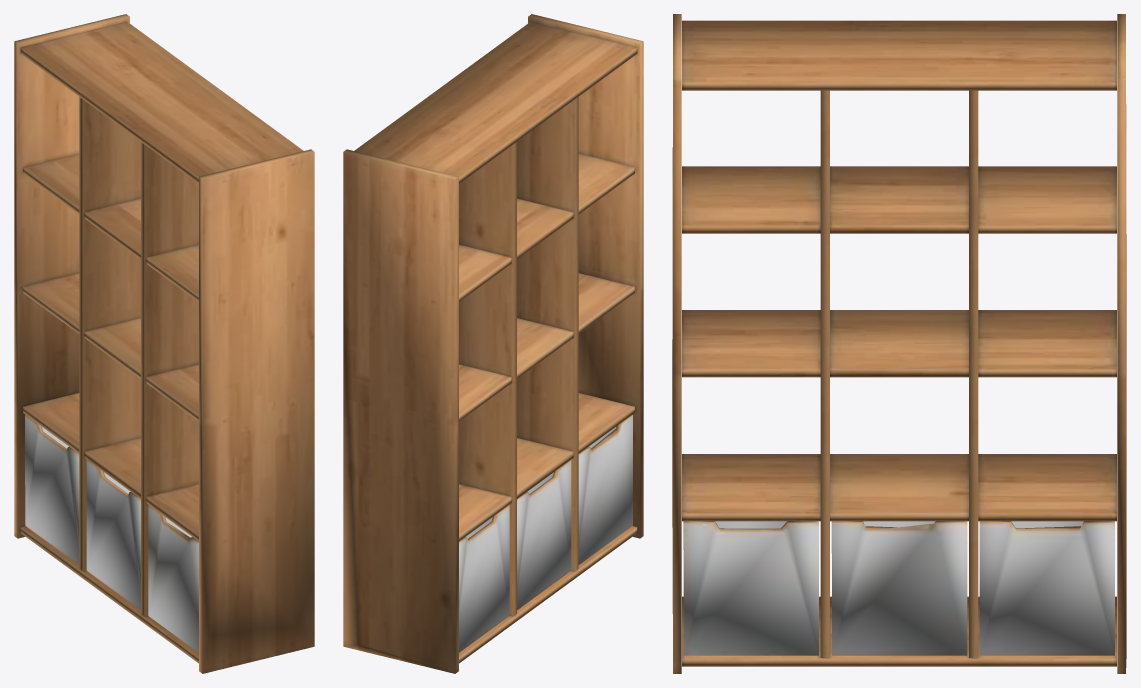
Rendered from wooden_display_shelves_01.glb.
The picture shows the model from 3 angles, left to right: view 1: azimuth 30°, elevation 25°; view 2: azimuth 150°, elevation 25°; view 3: azimuth 270°, elevation 25°; orthographic projection. The views are drawn at different scales.
Parts seen in each view (by area): view 1: wooden_display_shelves_01; view 2: wooden_display_shelves_01; view 3: wooden_display_shelves_01.
Boxes of the visible parts, bbox=[...] form: wooden_display_shelves_01: bbox=[14, 14, 314, 673]; wooden_display_shelves_01: bbox=[343, 14, 643, 673]; wooden_display_shelves_01: bbox=[672, 14, 1126, 673].
Size of the model in its own units: 0.368 by 1.55 by 1.08.
Materials: 1 (1 with a texture image).
